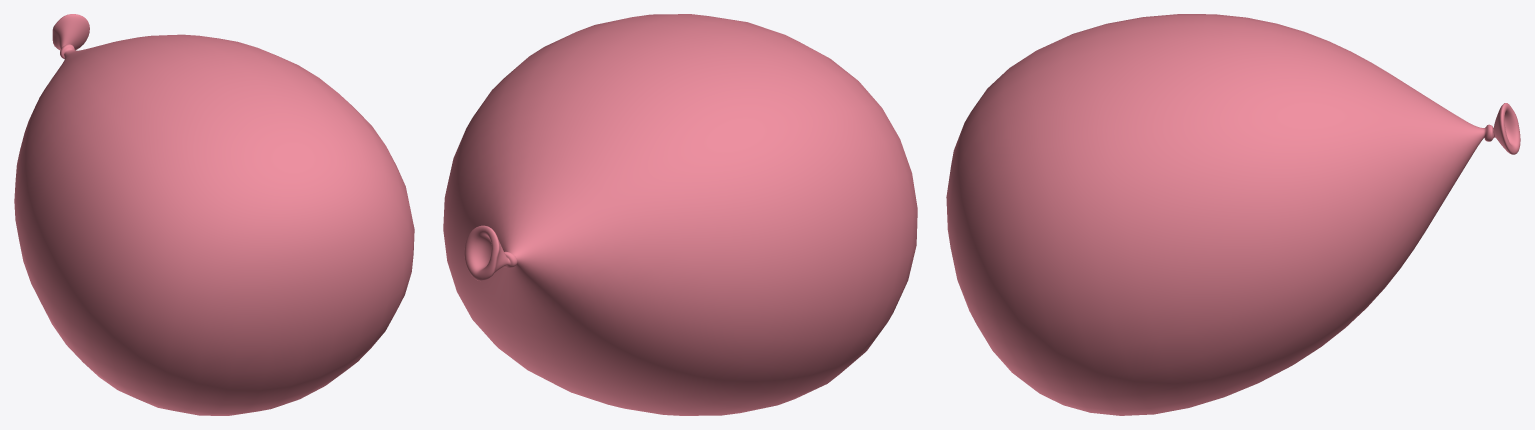
Rendered from globo_rosaDardos.obj.
The picture shows the model from 3 angles, left to right: view 1: azimuth 30°, elevation 25°; view 2: azimuth 150°, elevation 25°; view 3: azimuth 270°, elevation 25°; orthographic projection. The views are drawn at different scales.
Parts seen in each view (by area): view 1: Balloon_1; view 2: Balloon_1; view 3: Balloon_1.
Boxes of the visible parts, x1,y1,x2,y2 form: Balloon_1: (14,14,414,415); Balloon_1: (443,14,917,415); Balloon_1: (946,14,1520,415).
Size of the model in its own units: 5.7 by 5.12 by 7.58.
